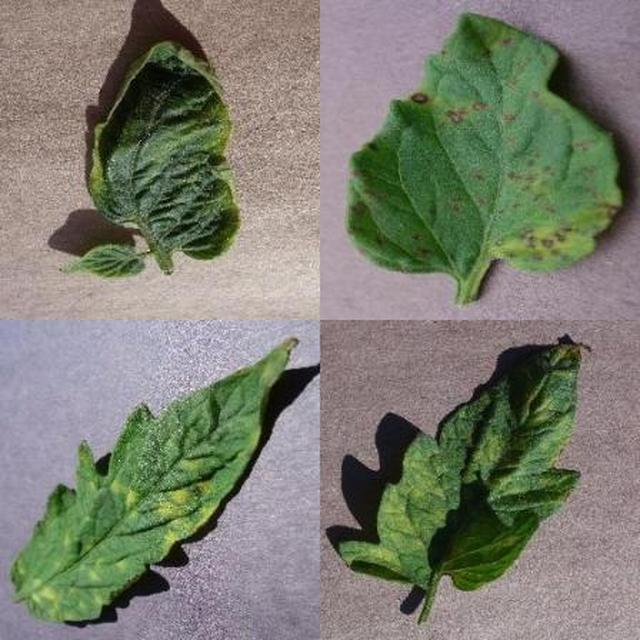Yellow Leaf Curl Virus: (126, 53, 640, 640)
